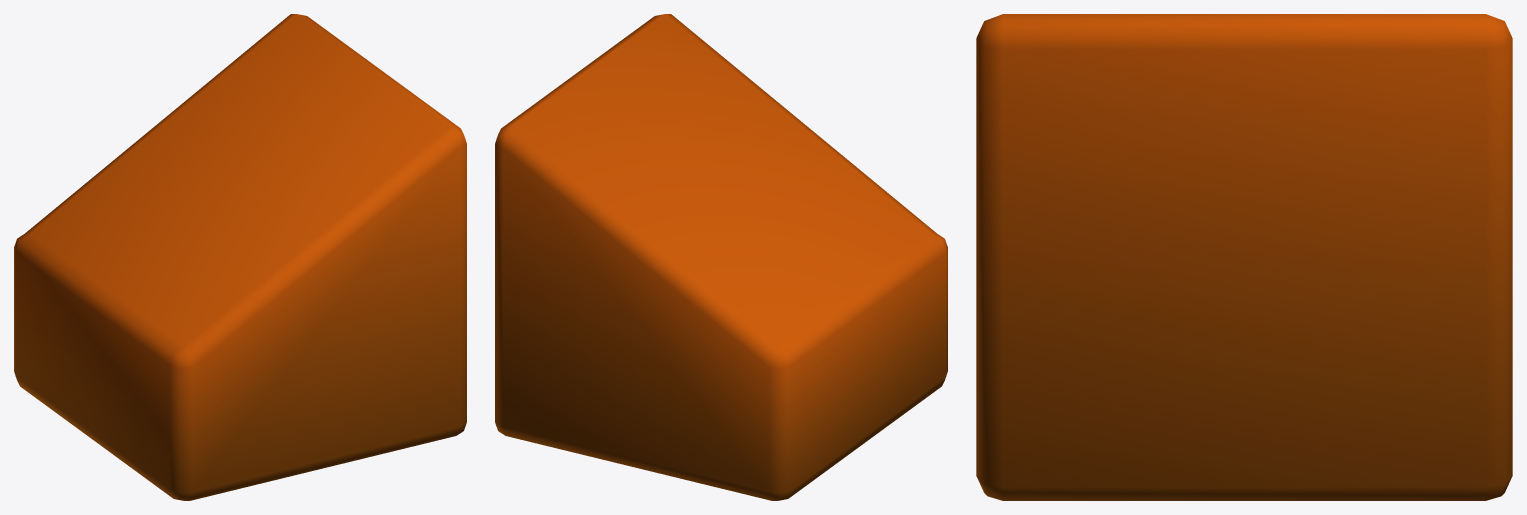
File: 3D_Tile_Ground_Slope_04A.fbx
3 renders of one model, left to right at view 1: azimuth 30°, elevation 25°; view 2: azimuth 150°, elevation 25°; view 3: azimuth 270°, elevation 25°, orthographic. The views are drawn at different scales.
Visible parts, largest first — view 1: 3D_Tile_Ground_Slope_04A; view 2: 3D_Tile_Ground_Slope_04A; view 3: 3D_Tile_Ground_Slope_04A.
Boxes of the visible parts, x1,y1,x2,y2 form: 3D_Tile_Ground_Slope_04A: (14,14,466,500); 3D_Tile_Ground_Slope_04A: (495,14,947,500); 3D_Tile_Ground_Slope_04A: (976,14,1512,500).
Size of the model in its own units: 200 by 200 by 200.
